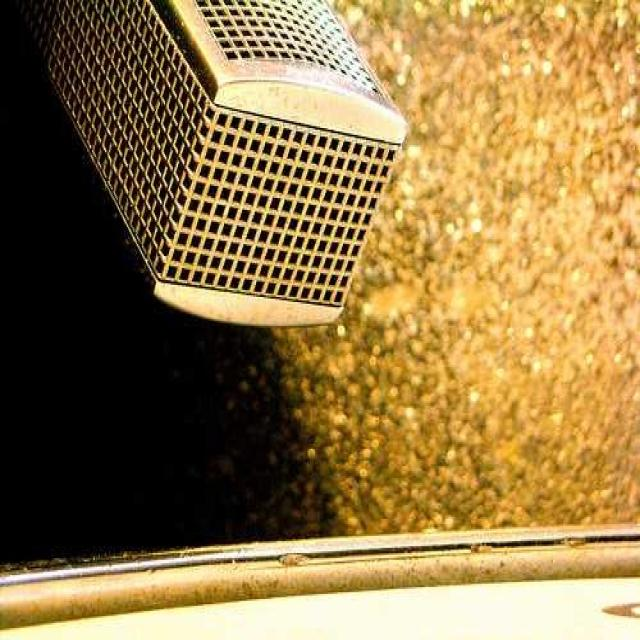microphone: (7, 1, 399, 320)
